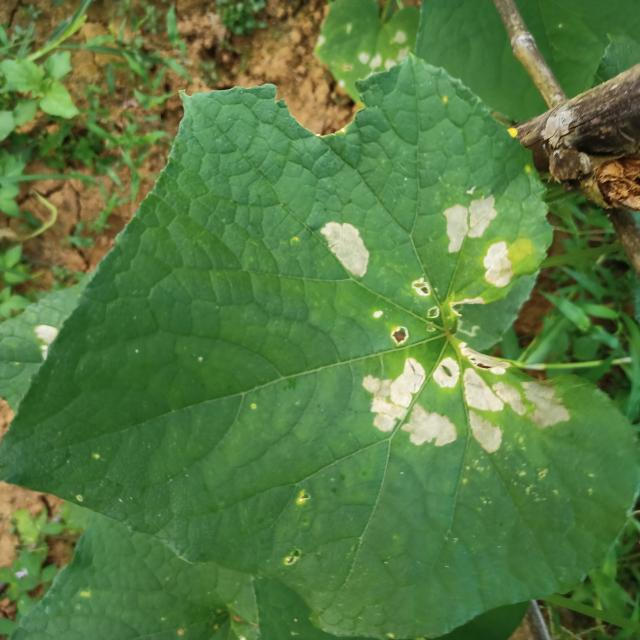disease_cucumber: (357, 340, 571, 456), (442, 190, 498, 256), (320, 216, 372, 283), (408, 275, 446, 324), (482, 240, 514, 290), (389, 324, 409, 346)
